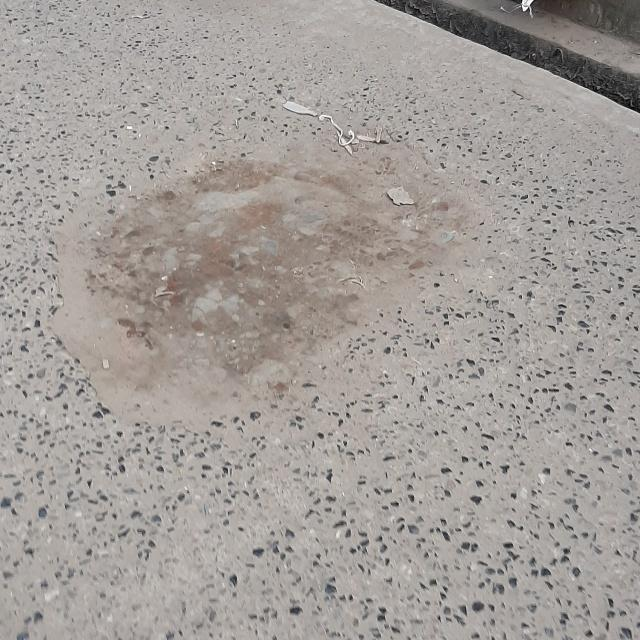Surface Erosion: (5, 75, 538, 492)
